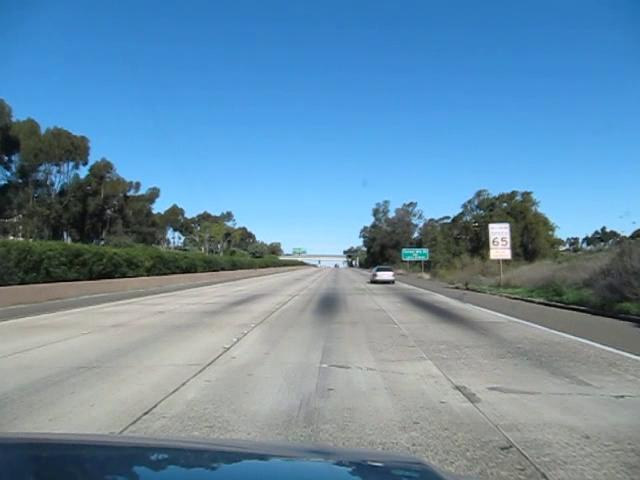speedLimit65: (488, 222, 511, 249)
